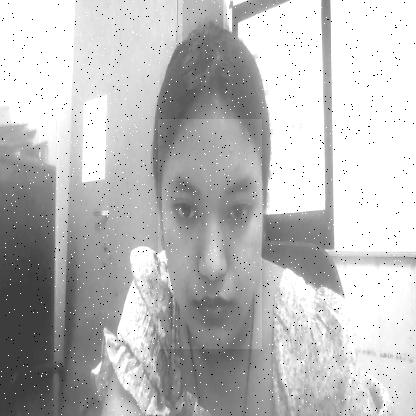Normal: (158, 120, 262, 350)
